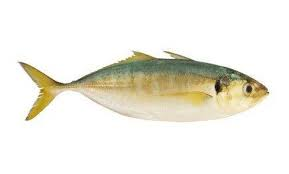Ikan Selar: (19, 57, 269, 123)
